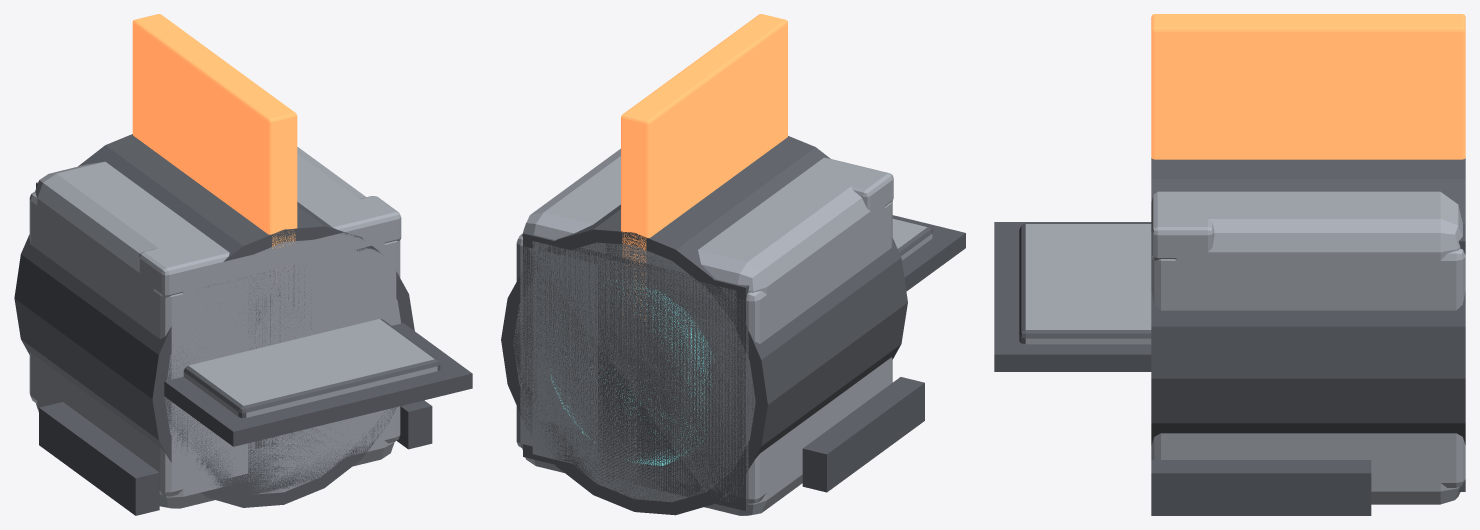
Rendered from weapon_kit.glb.
The picture shows the model from 3 angles, left to right: view 1: azimuth 30°, elevation 25°; view 2: azimuth 150°, elevation 25°; view 3: azimuth 270°, elevation 25°; orthographic projection. The views are drawn at different scales.
Parts seen in each view (by area): view 1: kit_collar, kit_mantlet_earth, kit_rail_earth, kit_cell_hatch, kit_fin_mars, kit_jacket, kit_rail_mars, kit_axial_receiver; view 2: kit_mantlet_earth, kit_collar, kit_rail_earth, kit_jacket, kit_fin_mars, kit_rail_mars, kit_axial_receiver, kit_cell_hatch, kit_laser_head; view 3: kit_collar, kit_fin_mars, kit_rail_earth, kit_cell_hatch, kit_mantlet_earth, kit_rail_mars, kit_axial_receiver.
Part boxes in pixels (x1,y1,x2,y2): kit_collar: (14, 134, 414, 507); kit_mantlet_earth: (35, 147, 394, 508); kit_rail_earth: (29, 191, 401, 496); kit_cell_hatch: (164, 319, 472, 446); kit_fin_mars: (132, 14, 297, 248); kit_jacket: (165, 239, 401, 494); kit_rail_mars: (39, 274, 432, 515); kit_axial_receiver: (76, 234, 389, 493); kit_mantlet_earth: (522, 148, 884, 515); kit_collar: (501, 136, 907, 515); kit_rail_earth: (516, 157, 893, 503); kit_jacket: (513, 242, 755, 502); kit_fin_mars: (621, 14, 787, 319); kit_rail_mars: (537, 288, 924, 492); kit_axial_receiver: (605, 206, 887, 425); kit_cell_hatch: (892, 215, 965, 291); kit_laser_head: (551, 280, 710, 465); kit_collar: (1151, 158, 1465, 445); kit_fin_mars: (1151, 14, 1465, 159); kit_rail_earth: (1151, 191, 1465, 487); kit_cell_hatch: (994, 222, 1151, 371); kit_mantlet_earth: (1175, 191, 1465, 504); kit_rail_mars: (1151, 460, 1371, 515); kit_axial_receiver: (1170, 261, 1352, 459).
Size of the model in its own units: 1.24 by 1.55 by 1.5.
